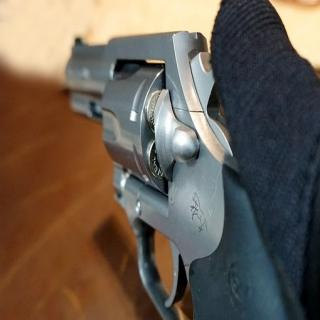gun: (60, 22, 306, 319)
